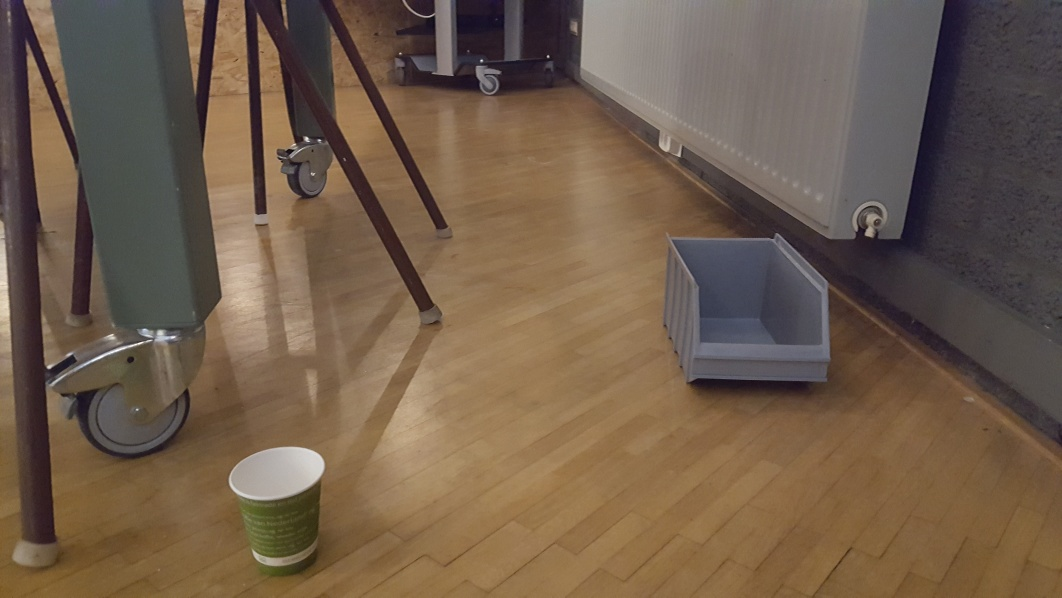cup: (227, 443, 331, 580)
tray: (662, 228, 837, 393)
